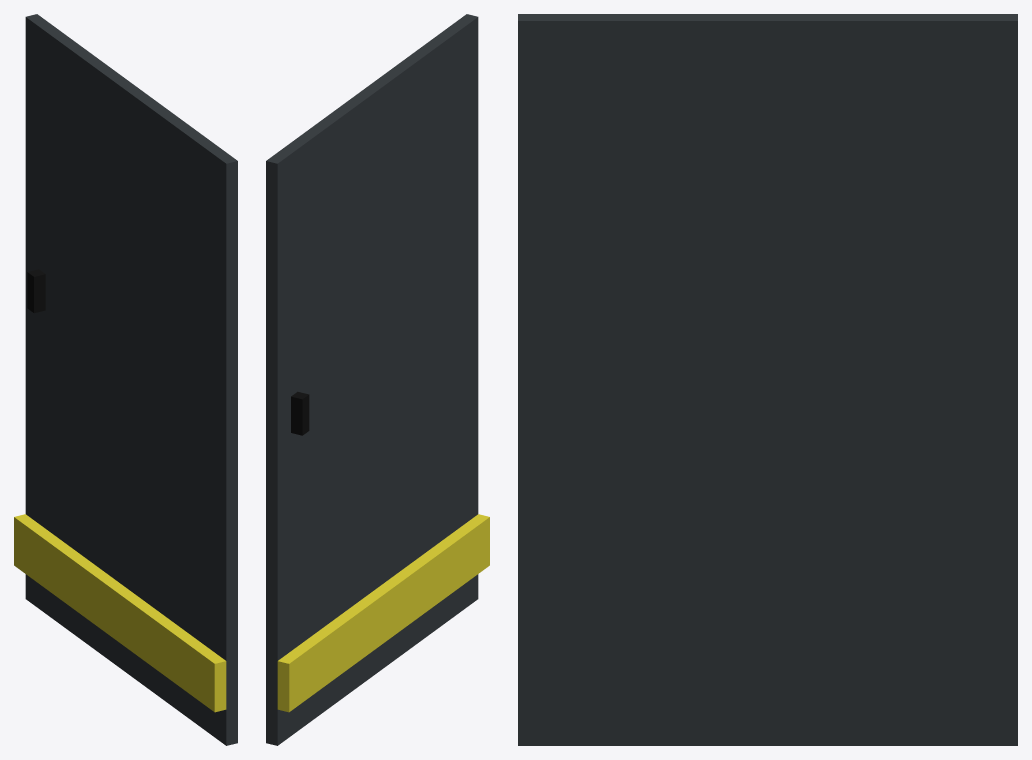
Rendered from security_van_rear_door.glb.
3 renders of one model, left to right at view 1: azimuth 30°, elevation 25°; view 2: azimuth 150°, elevation 25°; view 3: azimuth 270°, elevation 25°, orthographic. The views are drawn at different scales.
Parts seen in each view (by area): view 1: body:compound; view 2: body:compound; view 3: body:compound.
Part boxes in pixels (box(x1,y1,x2,y2)): body:compound: box(14, 14, 237, 745); body:compound: box(266, 14, 489, 745); body:compound: box(518, 14, 1017, 745).
Bounding box in the file's own units: 0.0625 × 1.5 × 0.9375.
